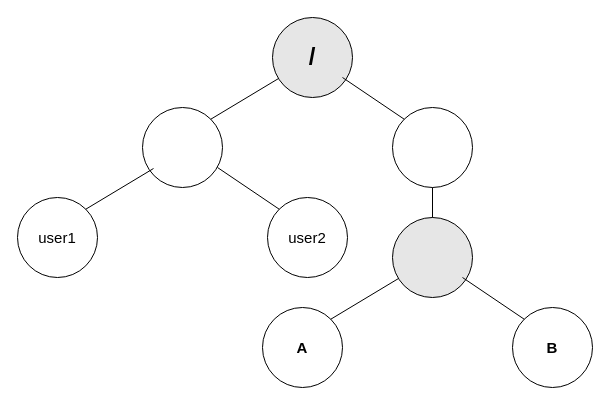
This 610x405 diagram has some shape labels left out. The centre of each missing label's shape, as x and y in pixels:
"ext_device" belongs at (x=432, y=257).
"home" belongs at (x=182, y=147).
"mnt" belongs at (x=432, y=147).
